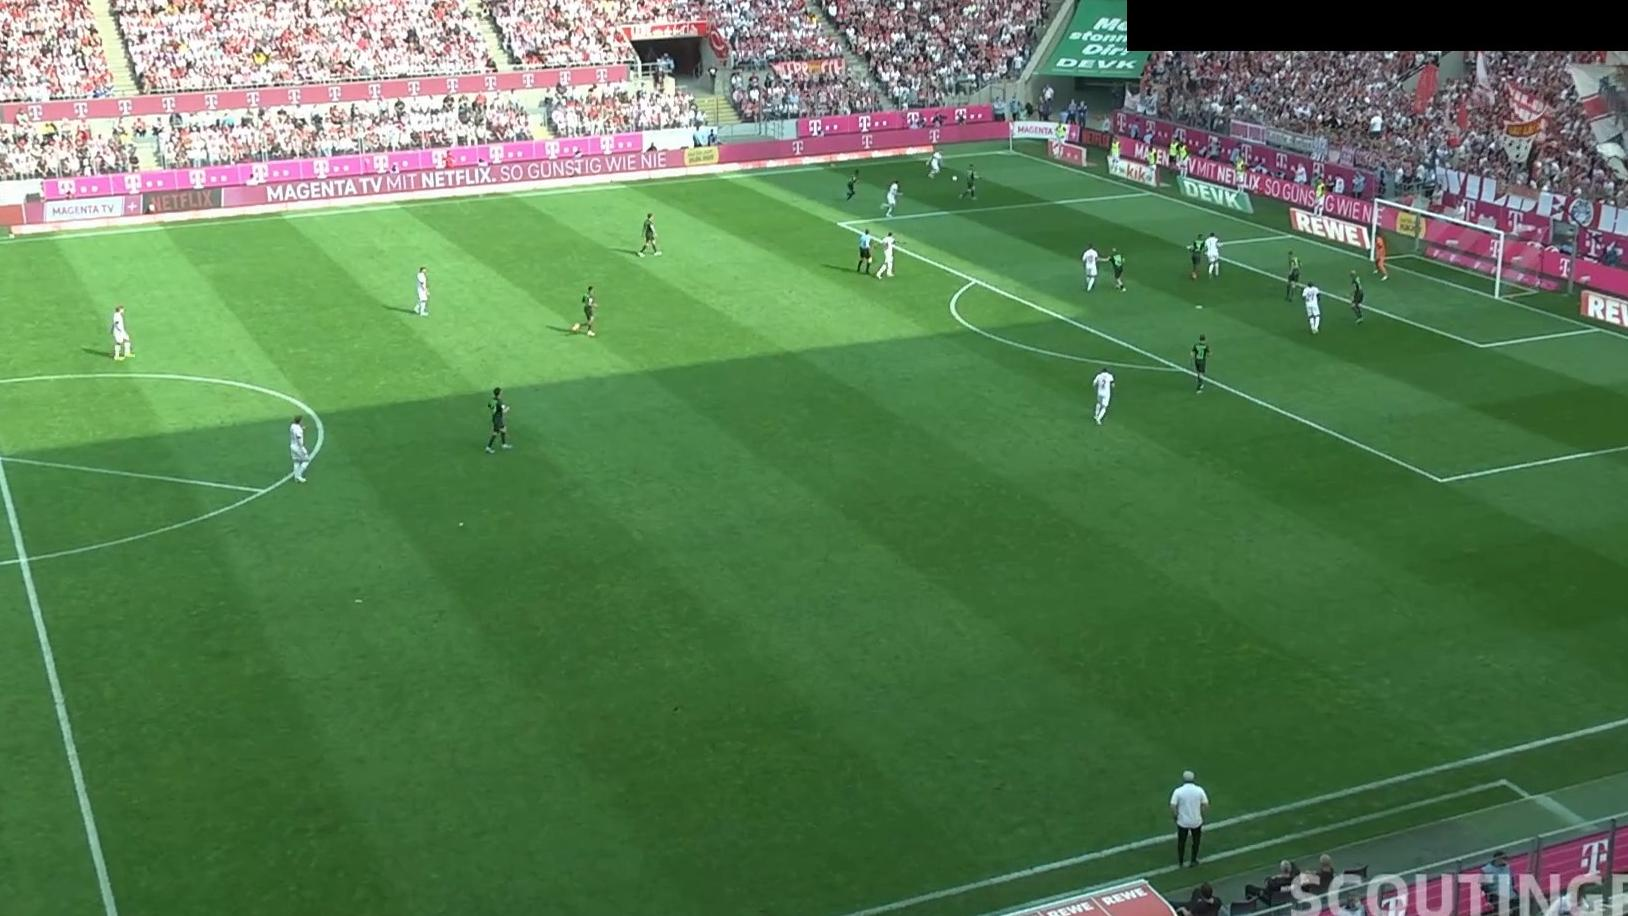ball: (952, 174, 958, 181)
